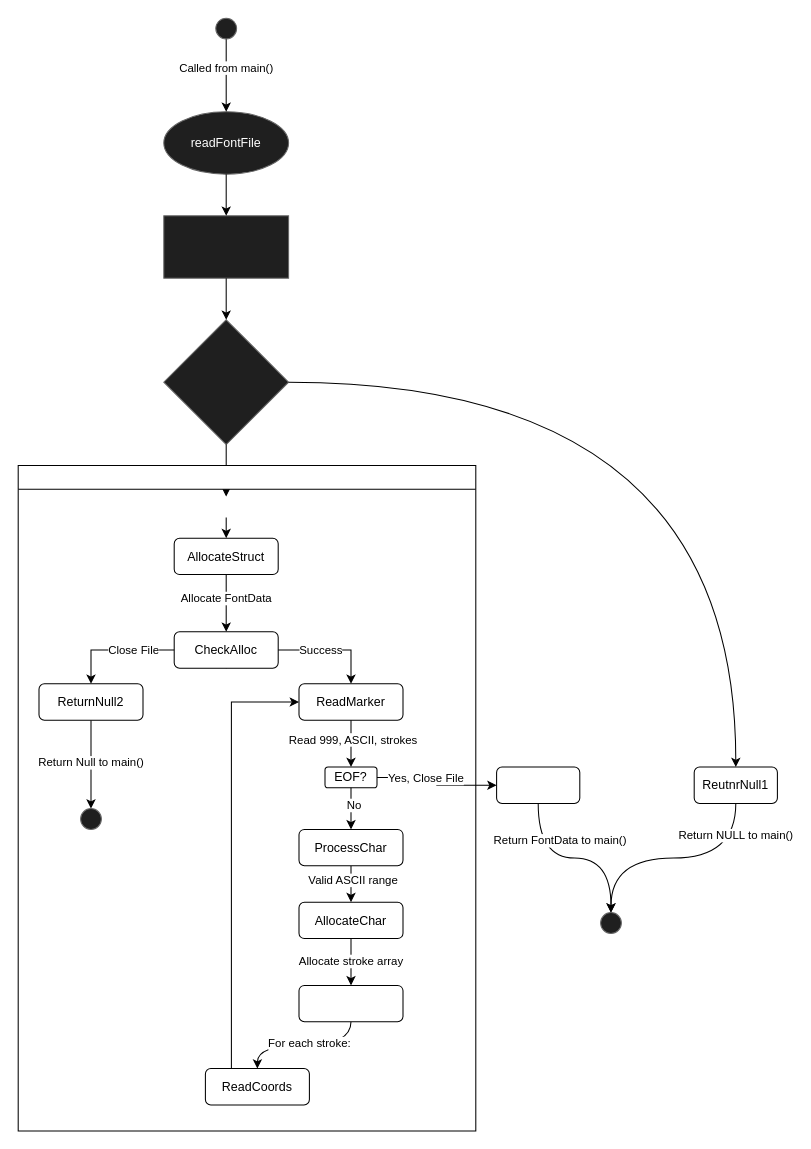
This 811x1149 diagram has some shape labels left out. The box of each missing label's shape, as (x1, y1, x2, y2) in pixels:
File opened successfully?: (163, 319, 289, 445)
Font Loading: (17, 464, 476, 1131)
Open font file: (163, 215, 289, 278)
ReadStrokes: (298, 984, 403, 1022)
ReturnFont: (496, 766, 580, 803)
